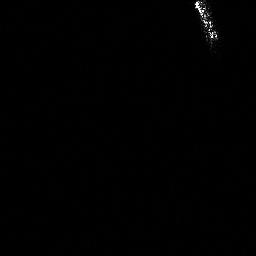ship: (191, 1, 219, 43)
